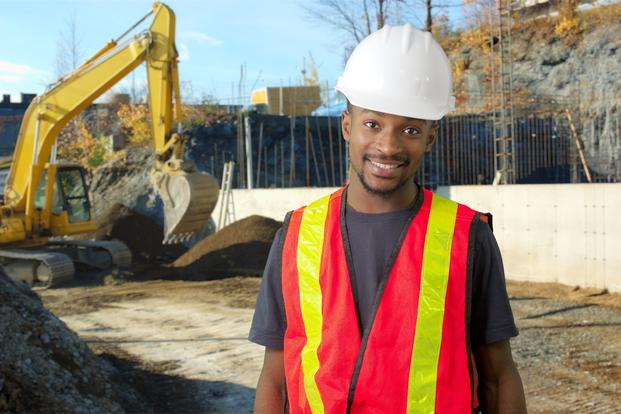hard hat: (333, 23, 451, 122)
high-vis: (279, 184, 496, 414)
